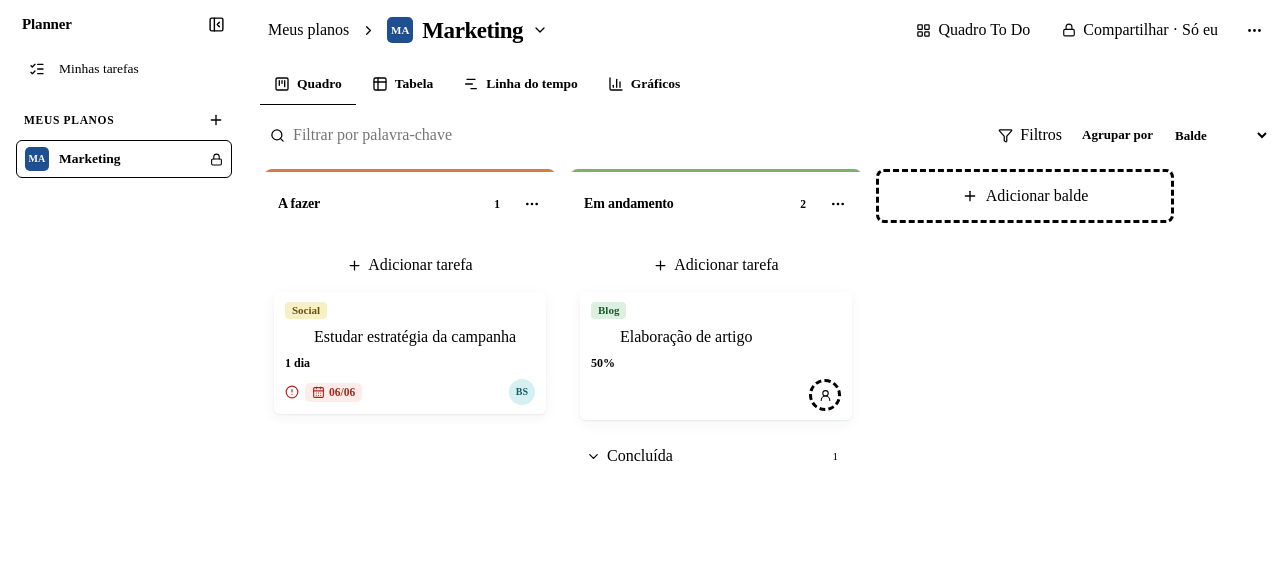
Test: Planner no formato Microsoft Planner › mostra o rail de planos, a trilha e o quadro com uma coluna por balde
Expected: the heading "Marketing" is shown, [422,17,523,43]
Expected: the button "Estudar estratégia da campanha" is shown, [314,328,535,346]
Click the button "Concluída 1".
click(640, 456)  # box [580,440,852,472]
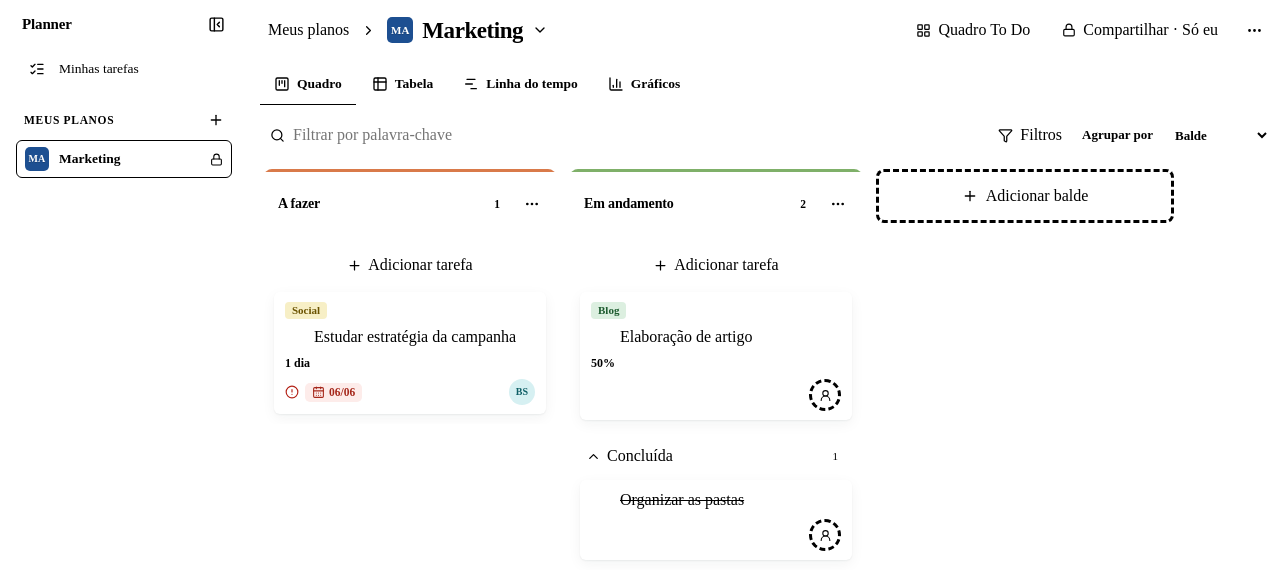
Expected: the button "Adicionar balde" is shown, [879,172,1171,220]
Result: the button "Organizar as pastas" is shown at [620,491,841,509]
